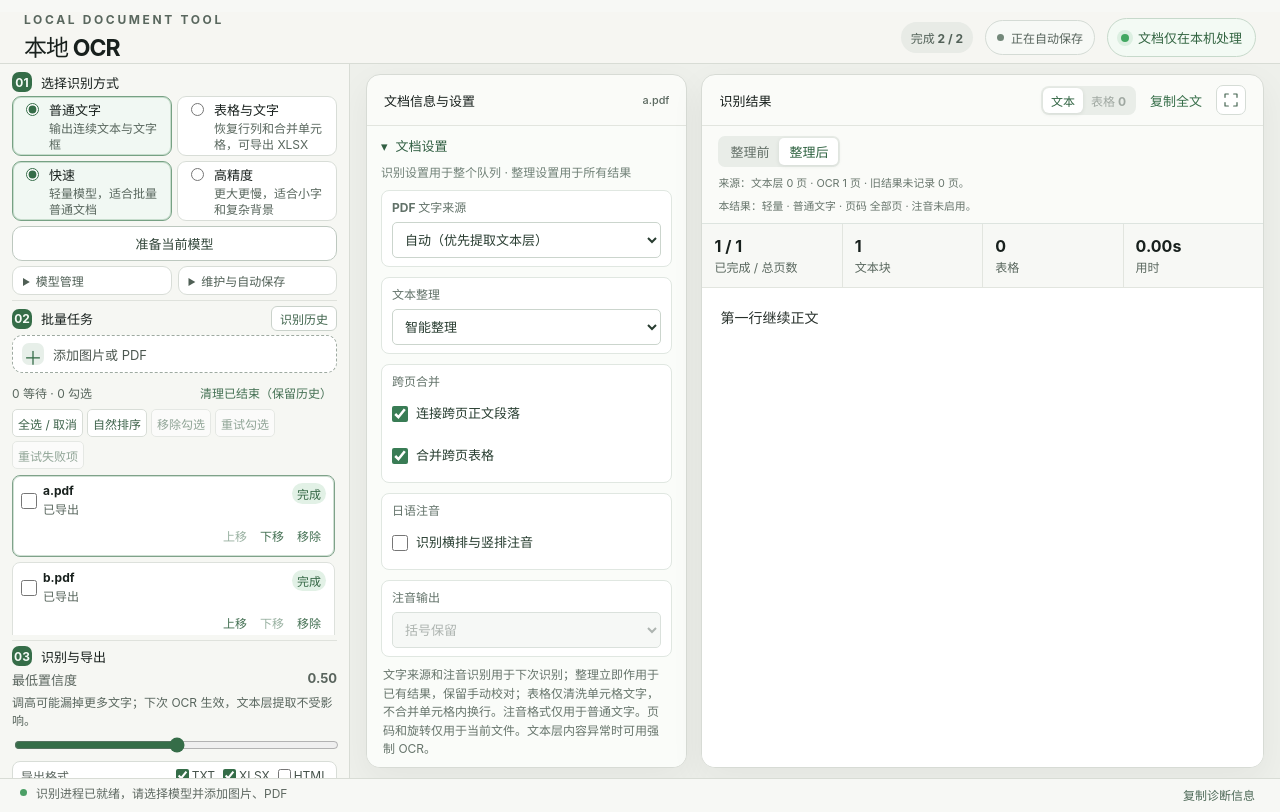
Test case: 0.13 state and output regressions › reports clipboard failures near the result instead of rejecting silently
Click the button "复制全文": (1176, 100) [1144, 90, 1208, 110]
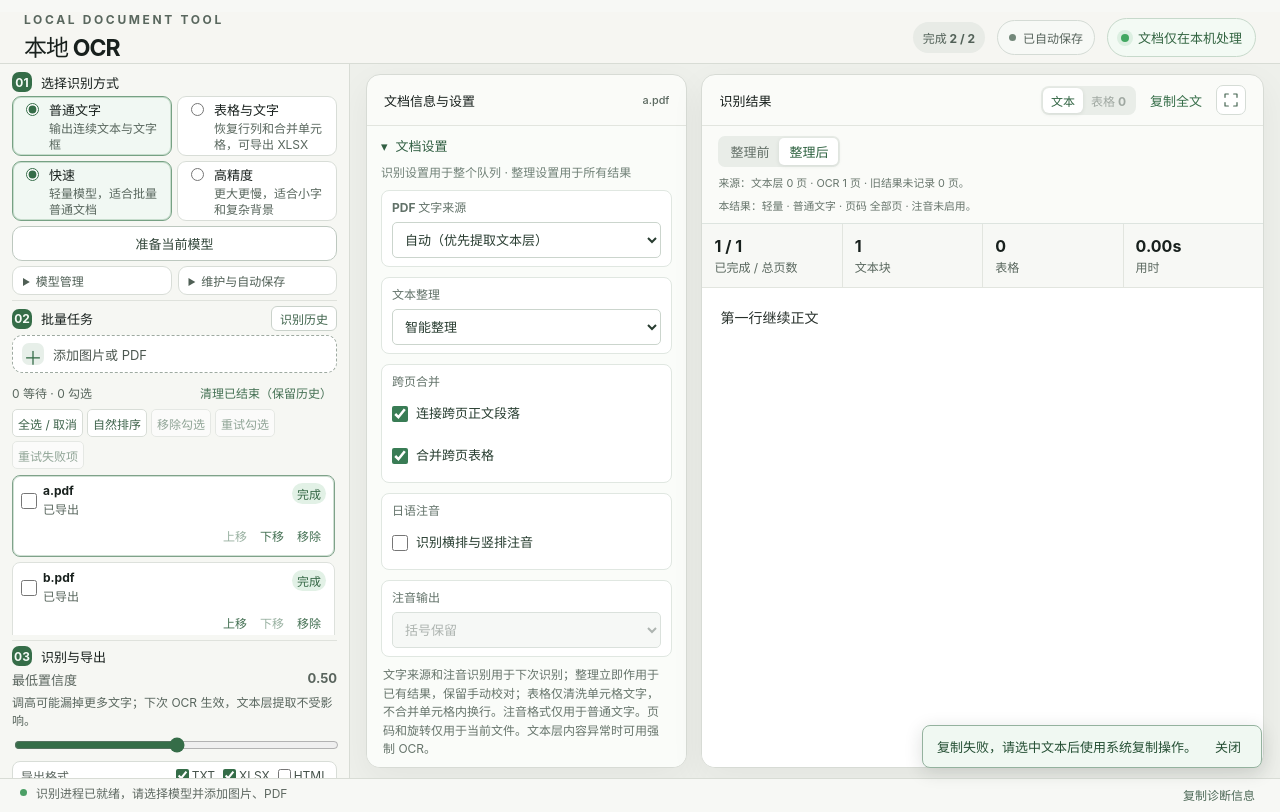
Check: the message with class "action-feedback" shows "复制失败", box [937, 739, 1197, 755]
